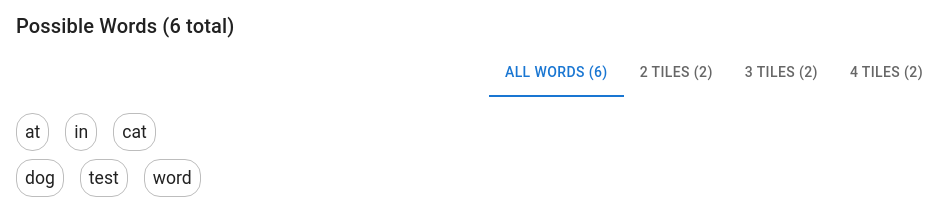
Scenario: WordList › filters words when changing tabs
Step 1. Click the tab "2 Tiles (2)" → (676, 73), box [624,49,729,97]
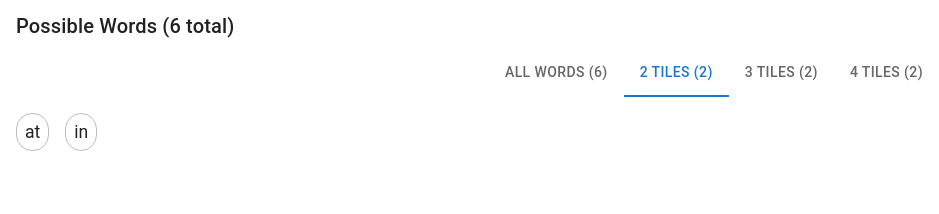
Expected: the text "at" is shown, [25,122,40,142]
Expected: the text "cat" is gone
